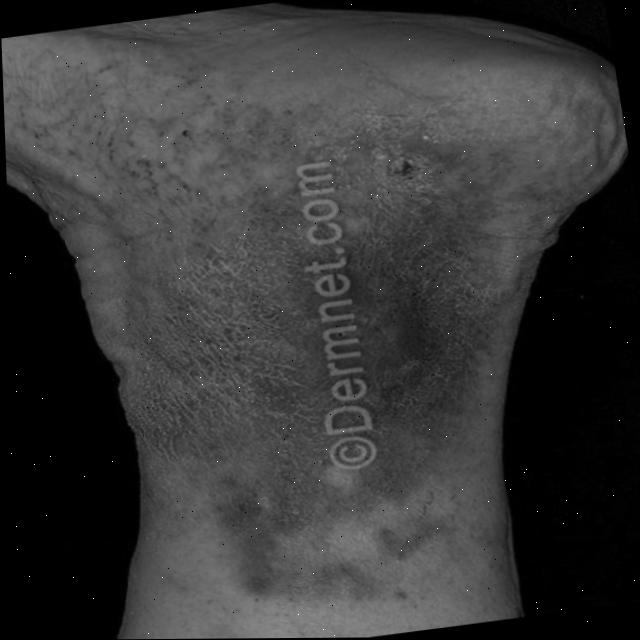Eczema: (80, 118, 552, 593)
